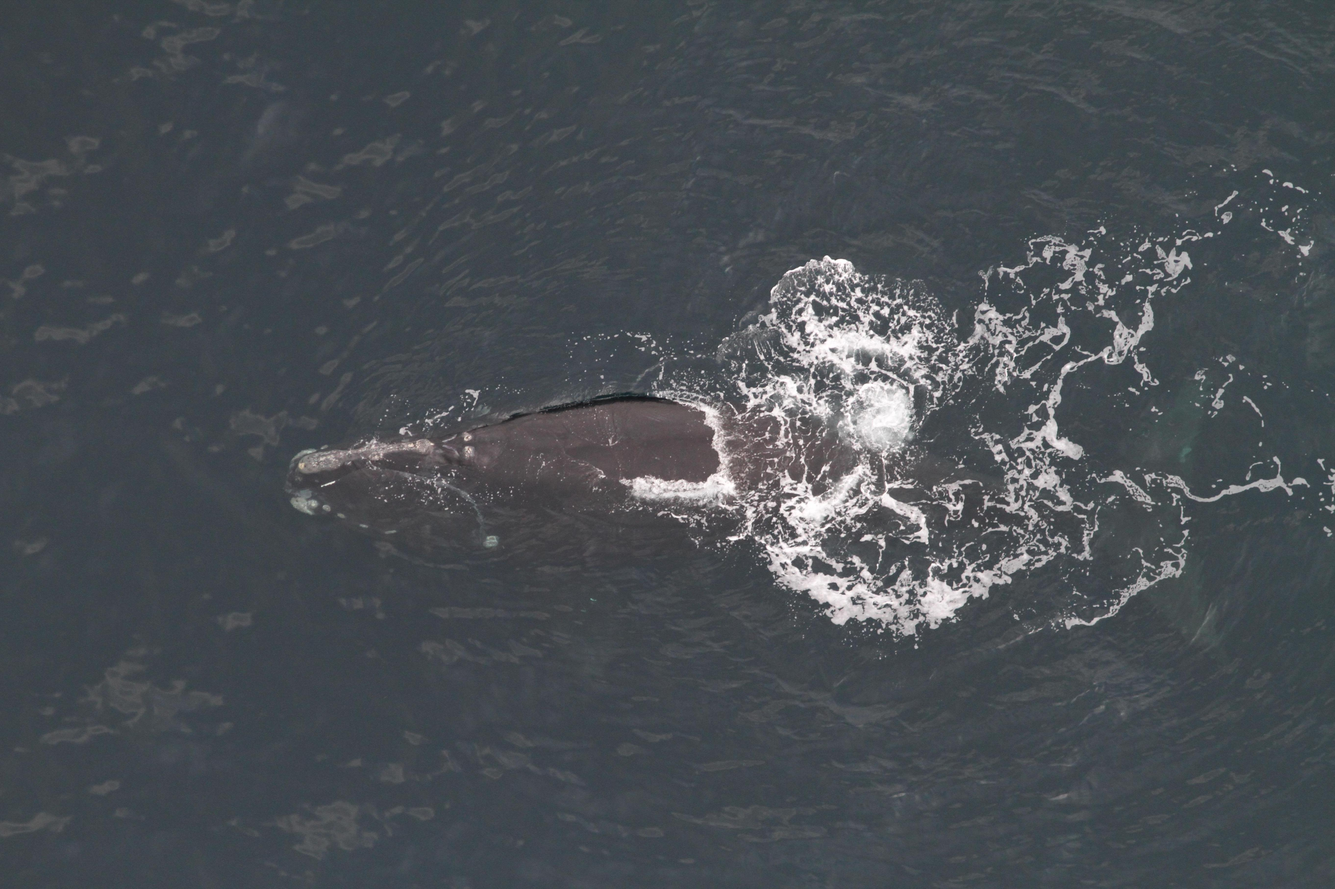whale: (273, 334, 1247, 681)
